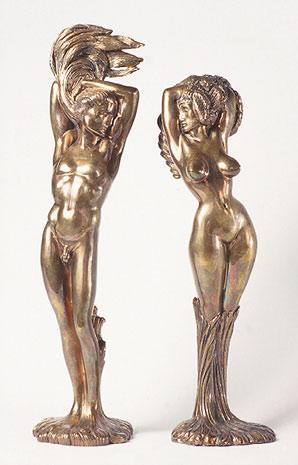person: (160, 75, 265, 449), (41, 70, 142, 438)
